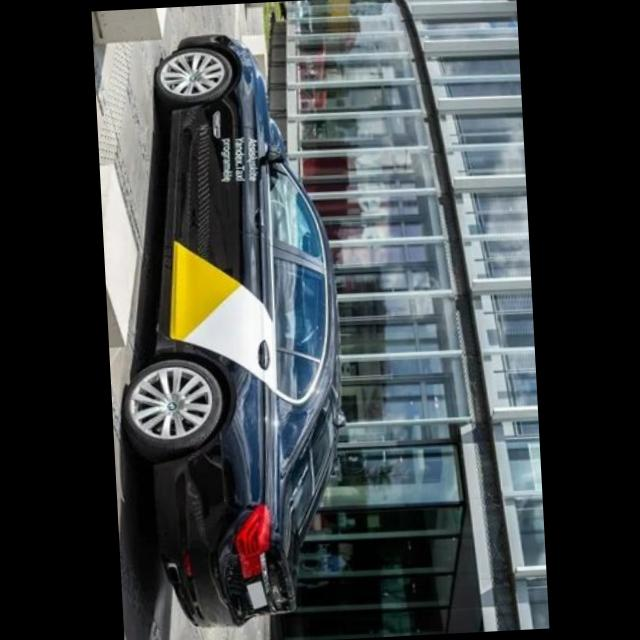taxi: (103, 28, 360, 633)
